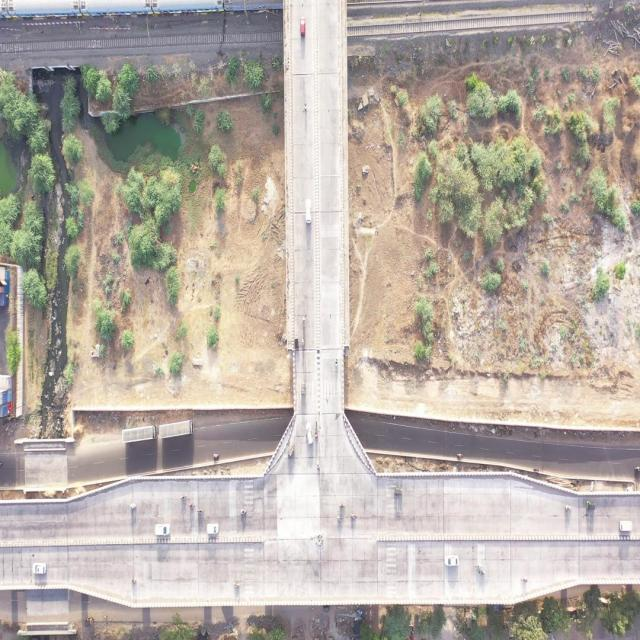3W: (394, 486, 404, 499), (288, 444, 296, 460), (84, 615, 94, 627), (586, 500, 596, 512), (300, 378, 306, 396), (322, 605, 329, 613)
Cars: (154, 522, 173, 537), (304, 197, 314, 224), (305, 422, 314, 446), (32, 562, 47, 576), (444, 555, 460, 567), (619, 519, 633, 532), (206, 522, 219, 535), (299, 16, 307, 37)
M2W: (350, 513, 358, 522), (563, 504, 572, 512), (303, 99, 308, 113), (334, 356, 339, 369), (301, 315, 306, 328), (213, 451, 220, 460), (454, 453, 464, 459), (130, 502, 137, 510), (233, 581, 240, 589), (338, 503, 346, 510), (520, 577, 528, 584), (301, 338, 305, 352), (316, 459, 321, 470), (474, 563, 483, 569), (336, 515, 343, 522), (188, 503, 196, 509), (241, 508, 247, 516), (478, 570, 486, 576), (131, 577, 137, 584), (180, 495, 187, 501), (314, 429, 318, 439), (315, 420, 319, 429)
MAV: (122, 425, 157, 444), (159, 421, 194, 438)
